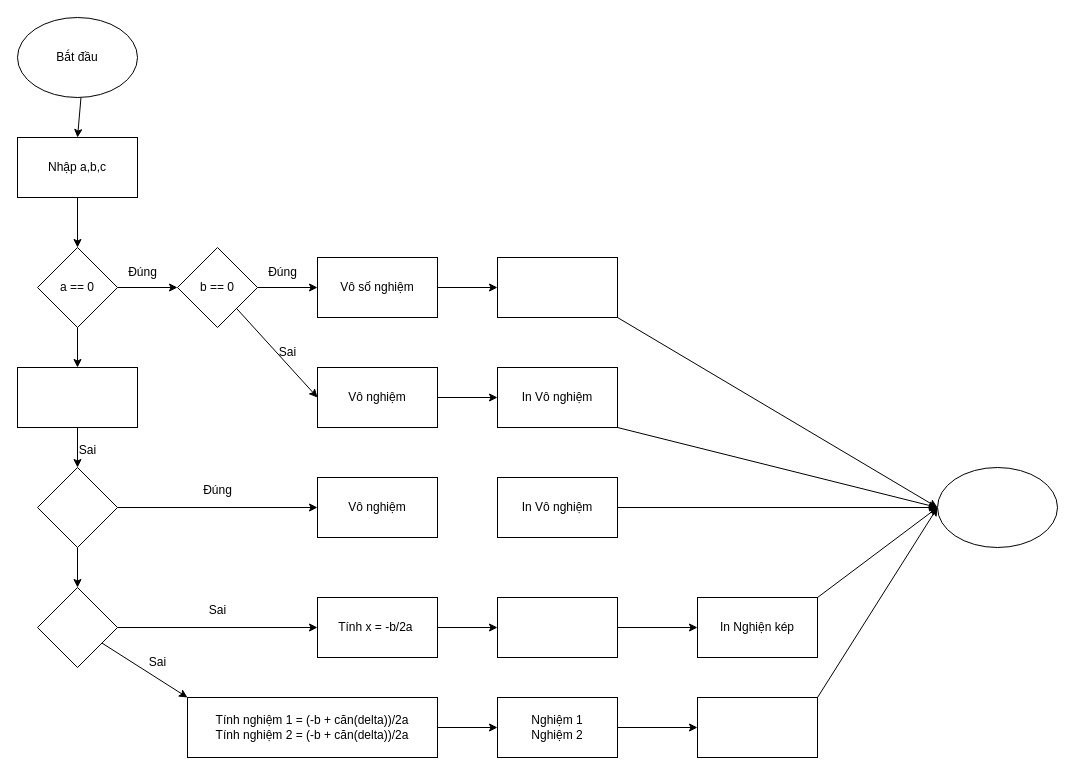
Image size: 1075x775. Some labels were removed from this diagram. Each missing label, with the box of its shape:
Delta < 0: (36, 466, 118, 548)
Delta == 0: (36, 586, 118, 668)
In Nghiệm 1 In Nghiệm 2: (696, 696, 818, 758)
In Vô số nghiệm: (496, 256, 618, 318)
Kết thúc: (936, 466, 1058, 548)
Nghiện kép: (496, 596, 618, 658)
Tính delta = b^2 - 4ac: (16, 366, 138, 428)
